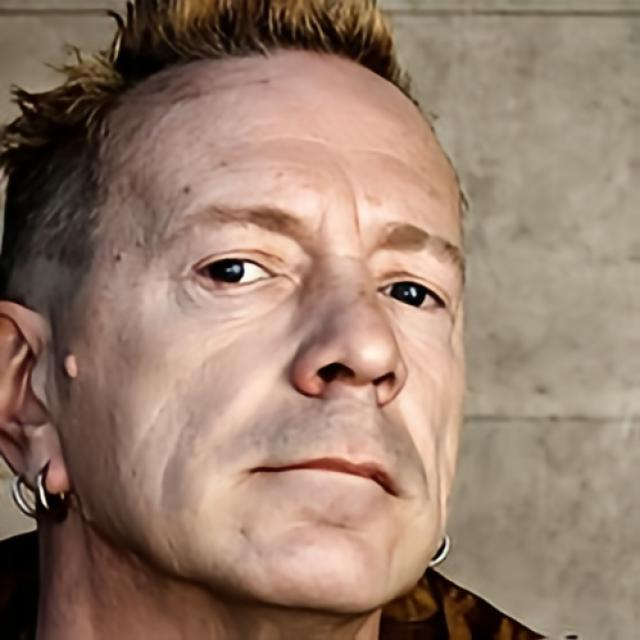neutral: (77, 44, 466, 616)
